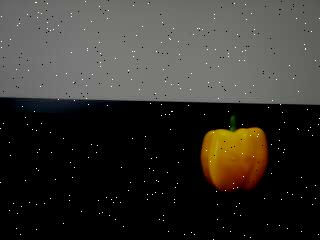Capsicum: (199, 112, 271, 195)
